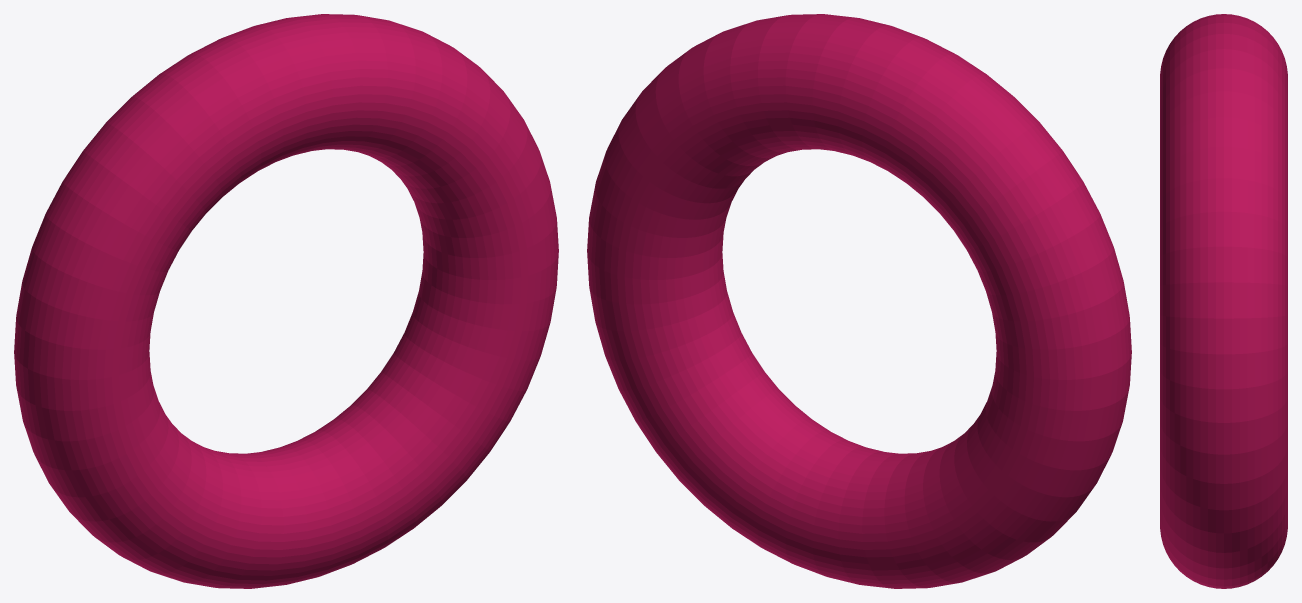
The picture shows the model from 3 angles, left to right: view 1: azimuth 30°, elevation 25°; view 2: azimuth 150°, elevation 25°; view 3: azimuth 270°, elevation 25°; orthographic projection. The views are drawn at different scales.
Visible parts, largest first — view 1: world; view 2: world; view 3: world.
Part boxes in pixels (<box>): world: <box>14,14,558,588</box>; world: <box>587,14,1131,588</box>; world: <box>1160,14,1287,588</box>.
Size of the model in its own units: 37.73 by 37.66 by 8.38.
